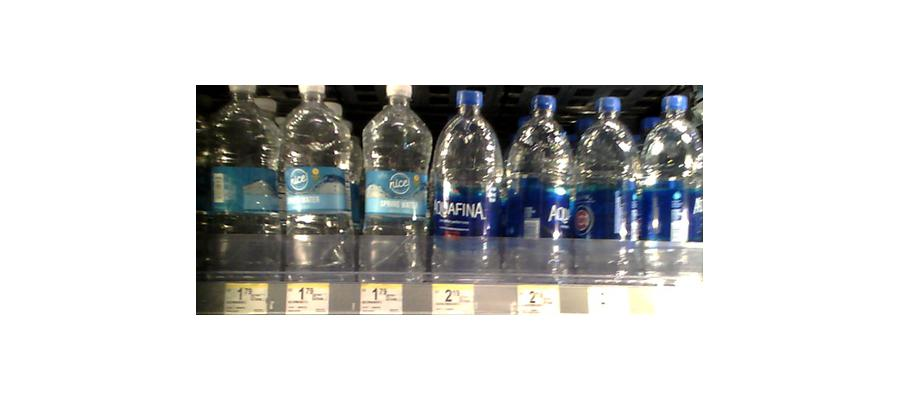bottle: (278, 83, 352, 277), (358, 82, 428, 282), (431, 87, 502, 281), (502, 89, 572, 279), (209, 81, 276, 277), (572, 94, 635, 282), (638, 92, 699, 284)
